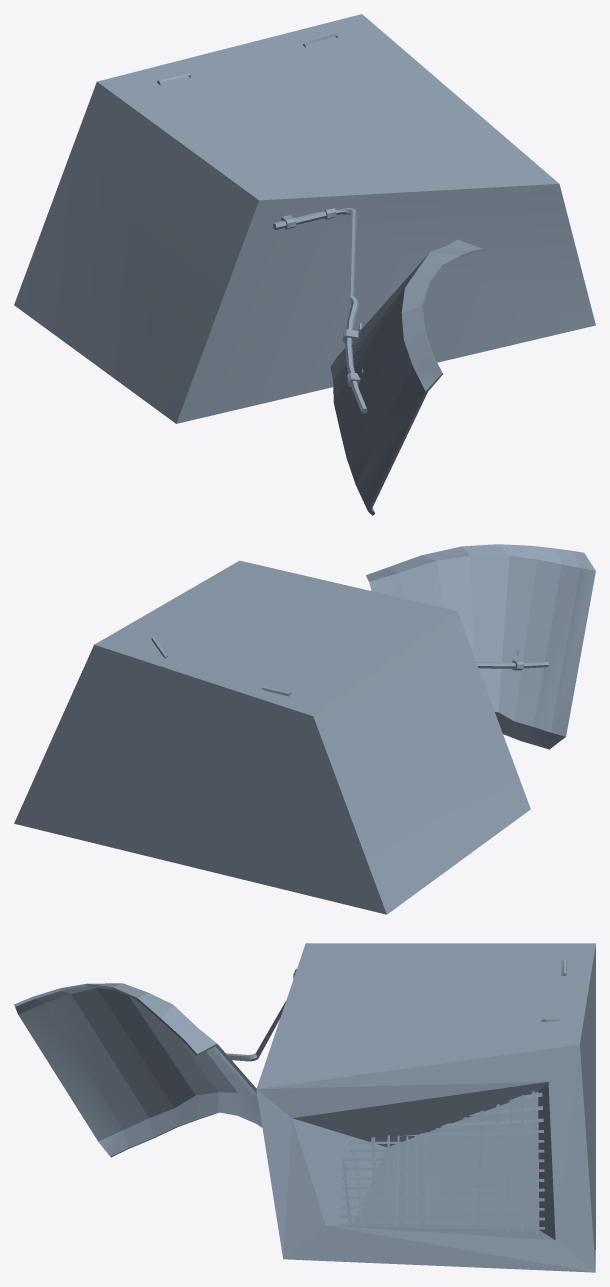
Rendered from Track_full_001_track_002.fbx.
The picture shows the model from 3 angles, top to bottom: view 1: azimuth 30°, elevation 25°; view 2: azimuth 150°, elevation 25°; view 3: azimuth 270°, elevation 25°; orthographic projection. The views are drawn at different scales.
Parts seen in each view (by area): view 1: Track_full.001.track.002; view 2: Track_full.001.track.002; view 3: Track_full.001.track.002.
Boxes of the visible parts, x1=… form: Track_full.001.track.002: x1=14, y1=14, x2=595, y2=515; Track_full.001.track.002: x1=14, y1=544, x2=595, y2=914; Track_full.001.track.002: x1=14, y1=943, x2=595, y2=1272.
Size of the model in its own units: 1.34 by 0.7785 by 1.8.
